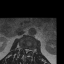CCS_normal: (26, 47, 27, 55)
LFS_stenosis: (29, 47, 31, 53)
LLS_normal: (27, 47, 29, 53)
RFS_severe_stenosis: (22, 46, 24, 51)
RLS_stenosis: (24, 46, 26, 53)
